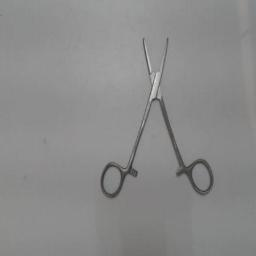Mayo Needle Holder: (96, 26, 216, 202)
